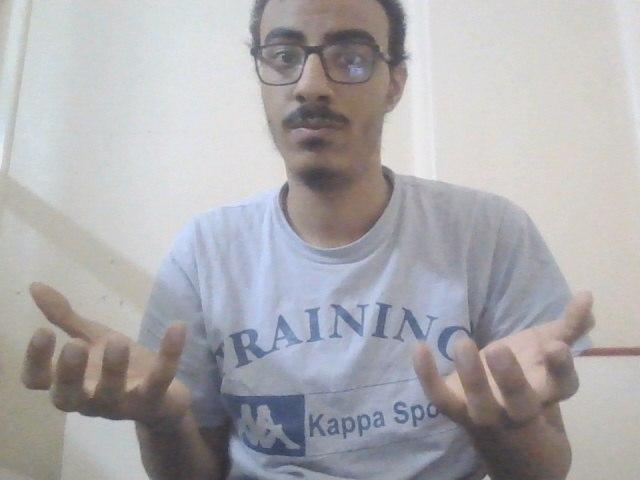What: (5, 277, 613, 435)
